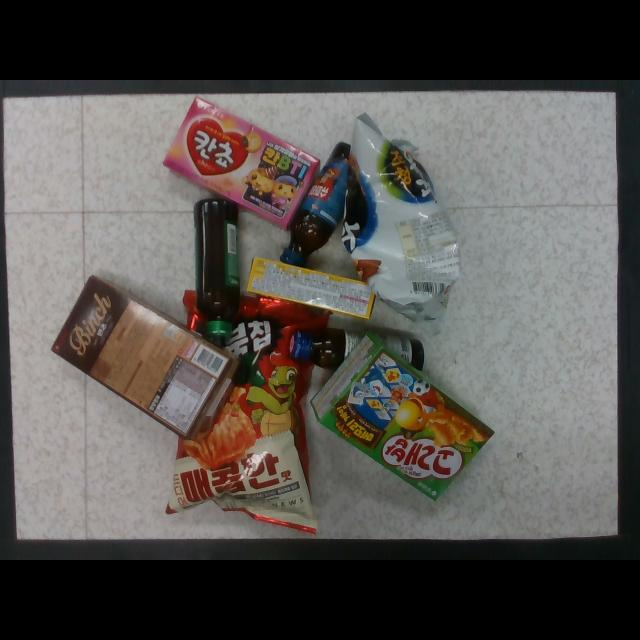bongji: (166, 289, 333, 534), (342, 113, 460, 320)
box: (52, 276, 242, 446), (313, 334, 495, 500), (163, 97, 320, 228), (245, 255, 381, 318)
energdrink: (281, 142, 373, 271), (288, 327, 425, 386), (194, 198, 240, 341)
